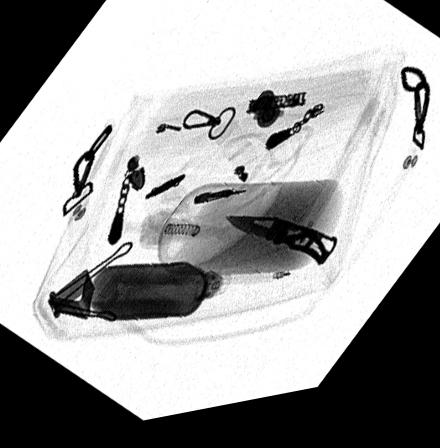Knife: (221, 222, 337, 279)
